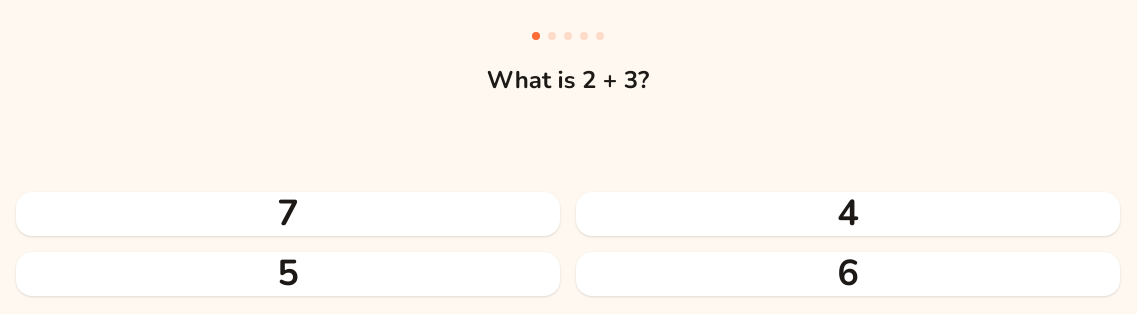
Test case: PRAC-01: Multiple-choice widget › tapping correct card advances problem index
Check: the text "What is 2 + 3?" is shown, box [487,64,649,96]
Step 1. Click the button "5" → click(288, 274), box [16,252,560,296]
Wait 201 ms
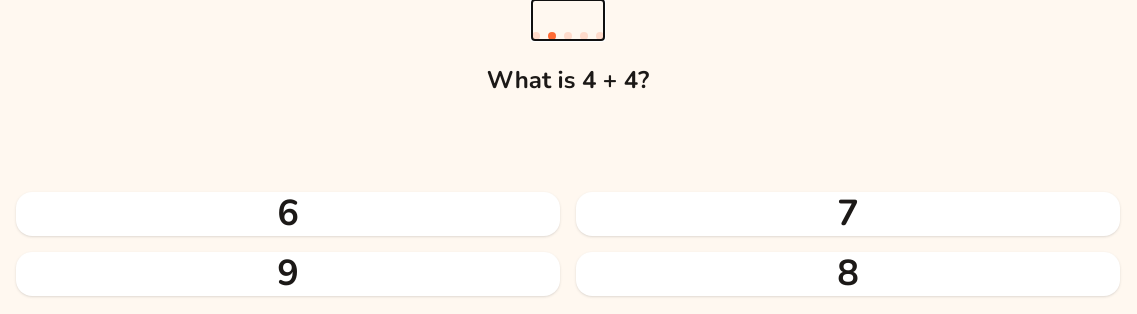
Check: the text "What is 2 + 3?" is gone
